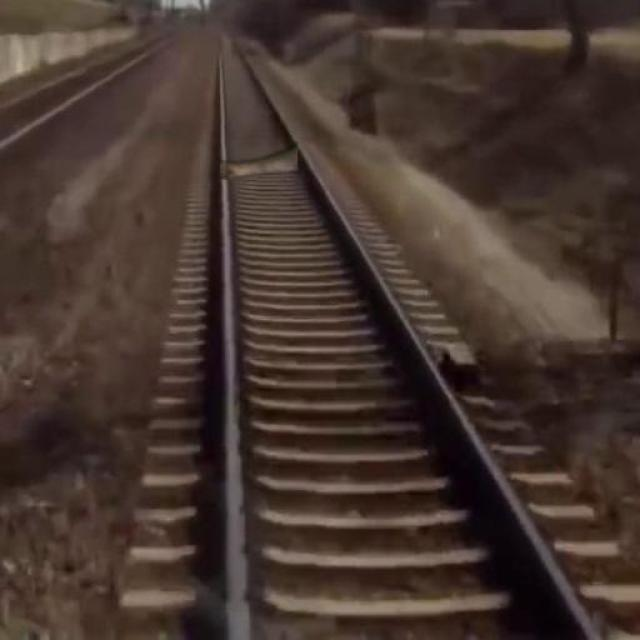Branches: (215, 132, 304, 182)
